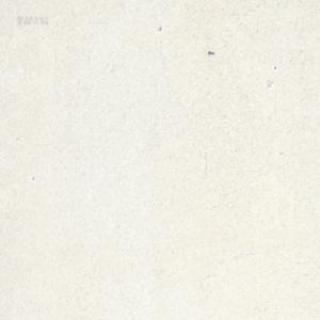Nailtrack_idkeyframe: (206, 48, 214, 54)
